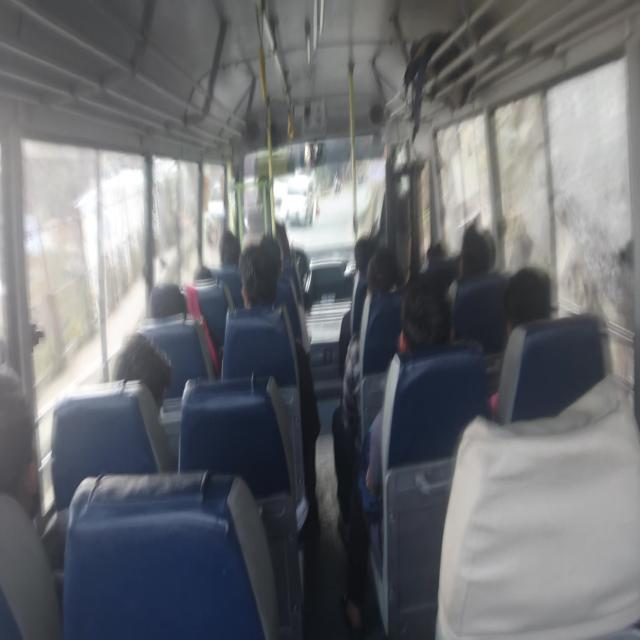person: (0, 385, 60, 602), (509, 262, 608, 383), (96, 344, 165, 427), (226, 246, 281, 315), (398, 286, 444, 351), (360, 254, 403, 307), (458, 219, 492, 284), (151, 272, 183, 331), (174, 258, 216, 297), (254, 228, 290, 272), (207, 225, 237, 258), (343, 236, 369, 273), (432, 234, 456, 266)
